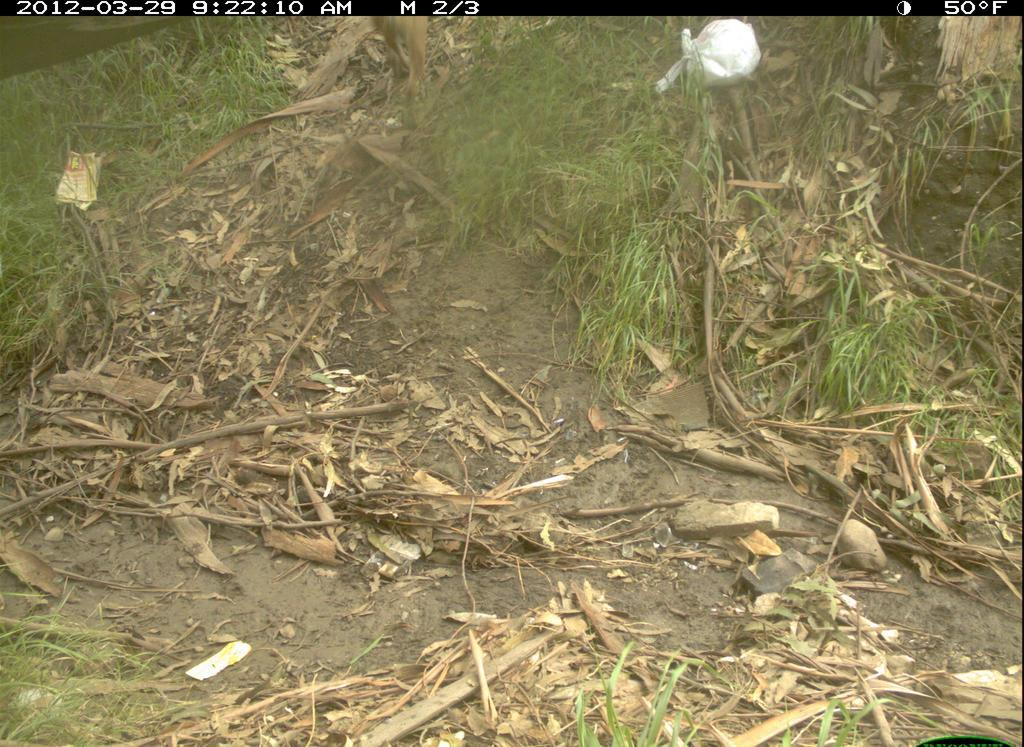dog: (355, 9, 469, 99)
